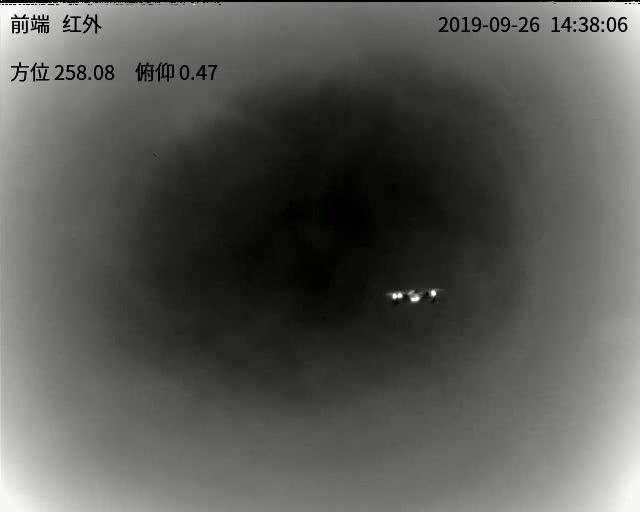DRONE: (387, 288, 440, 306)
